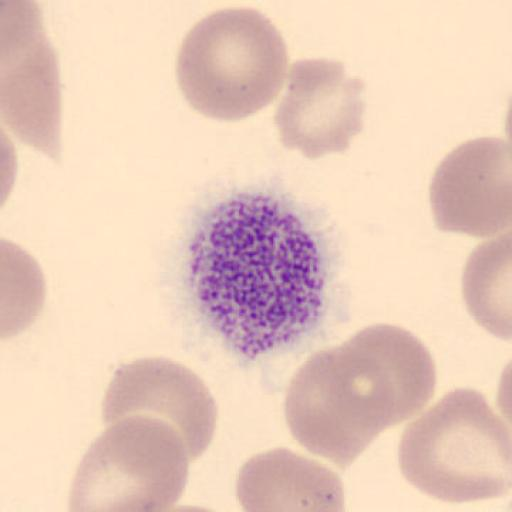Platelet: (181, 184, 348, 360)
RBC: (282, 340, 398, 468), (173, 4, 289, 124), (397, 386, 512, 505), (100, 354, 220, 464), (66, 414, 190, 511), (339, 321, 438, 425), (272, 54, 368, 160), (1, 0, 64, 158), (426, 134, 512, 239), (234, 444, 349, 512), (459, 230, 512, 344), (2, 236, 48, 342), (0, 126, 20, 210), (494, 360, 512, 436), (149, 503, 234, 512)
